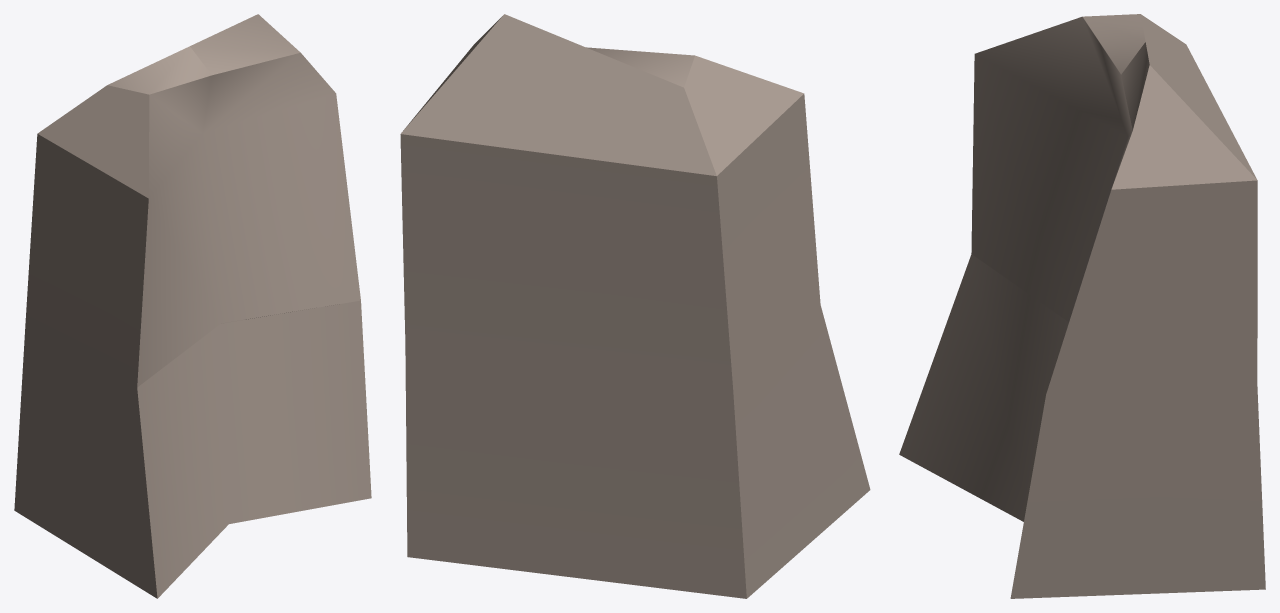
The model's file is Building_2.fbx.
3 views of the same model, side by side, from view 1: azimuth 30°, elevation 25°; view 2: azimuth 150°, elevation 25°; view 3: azimuth 270°, elevation 25° (orthographic). The views are drawn at different scales.
Parts seen in each view (by area): view 1: pCube29; view 2: pCube29; view 3: pCube29.
Part boxes in pixels (bbox=[...]): pCube29: bbox=[14, 14, 371, 598]; pCube29: bbox=[400, 14, 870, 598]; pCube29: bbox=[899, 14, 1265, 598].
Bounding box in the file's own units: 4.51 × 6.71 × 4.41.
